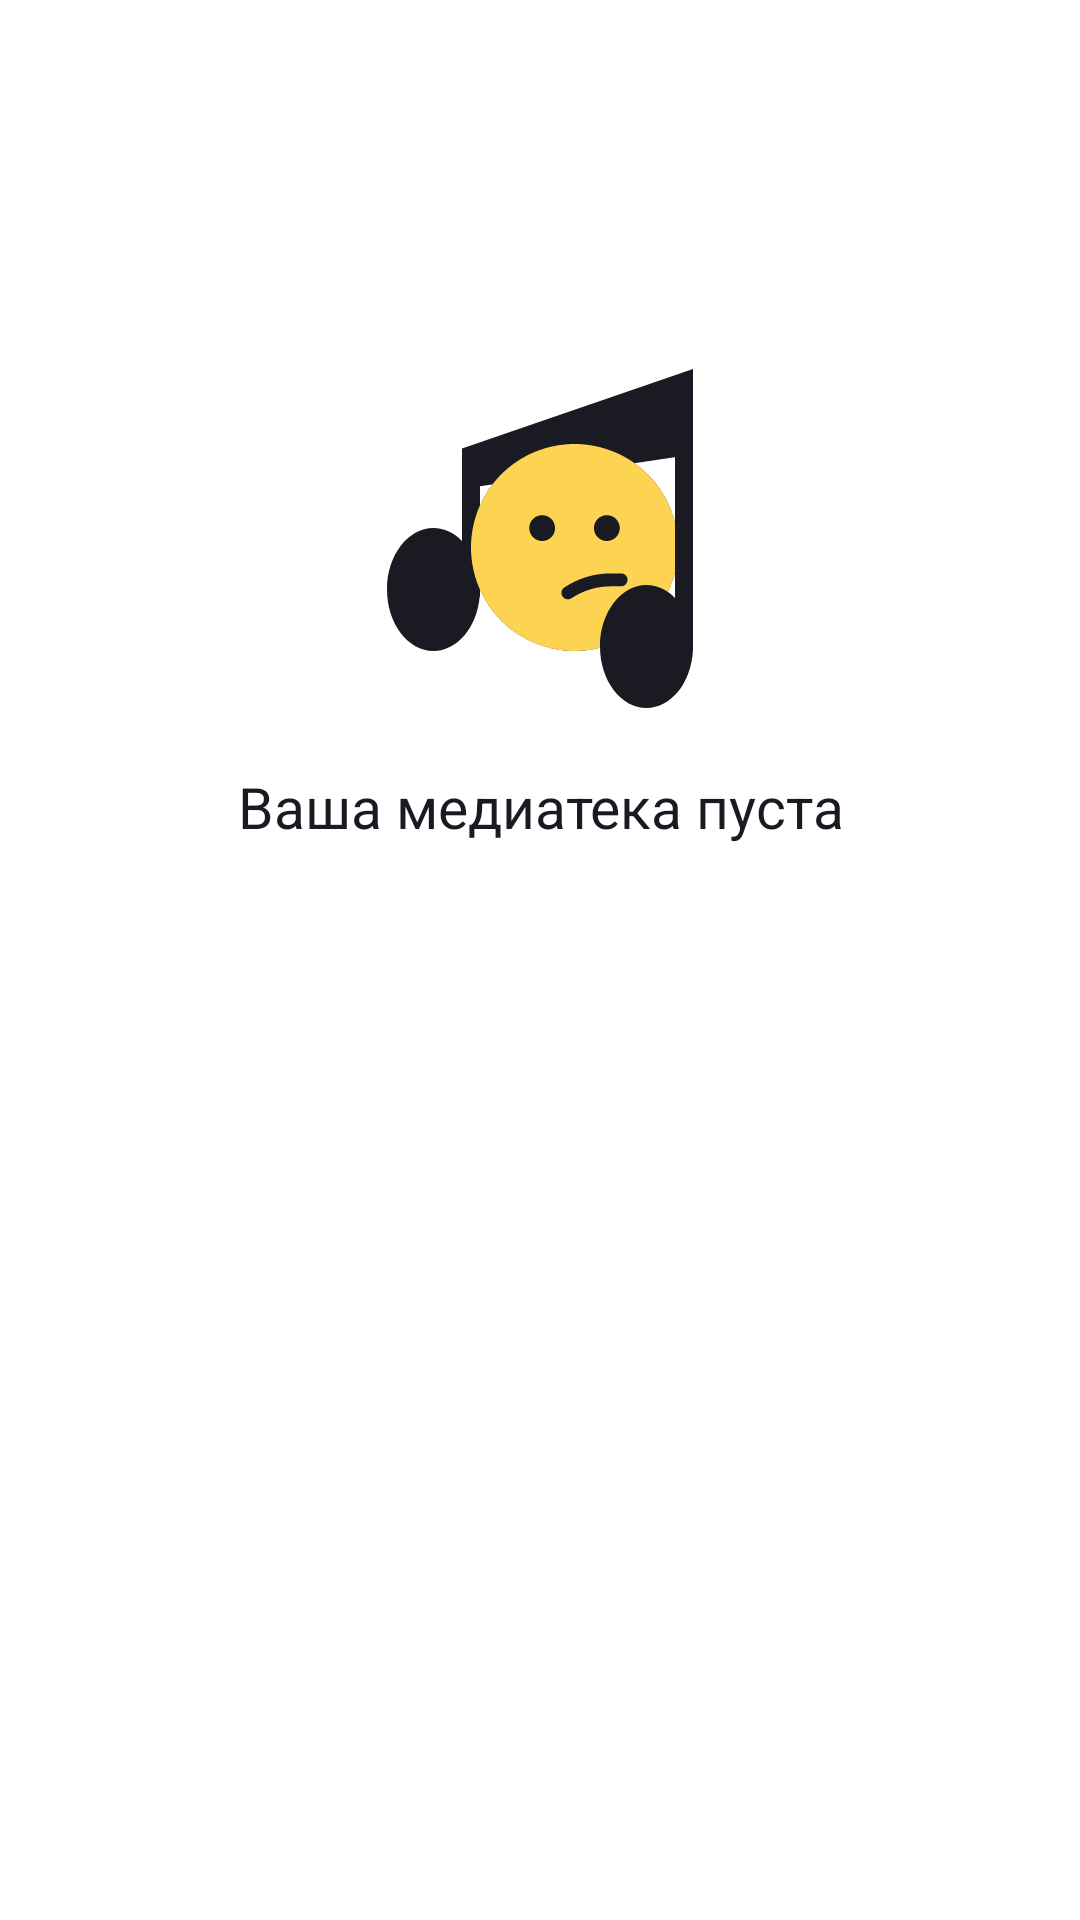

Named icons in this screenshot (1080w x 1920h) and their centers, (x=x, y=y):
nothing found: (x=540, y=538)
